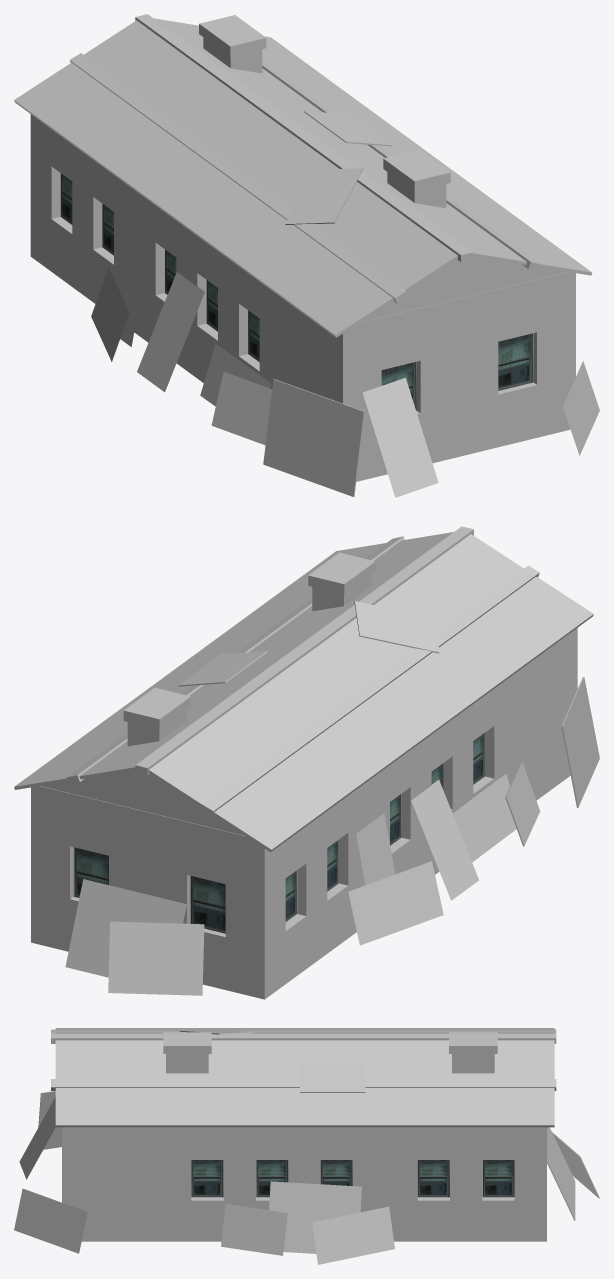
File: industrial_building_2.fbx
3 renders of one model, top to bottom at view 1: azimuth 30°, elevation 25°; view 2: azimuth 150°, elevation 25°; view 3: azimuth 270°, elevation 25°, orthographic. The views are drawn at different scales.
Parts seen in each view (by area): view 1: roof, building, white_planes, yellow_planes, green_planes, windows; view 2: roof, building, white_planes, yellow_planes, green_planes, windows; view 3: building, roof, white_planes, yellow_planes, windows, green_planes.
Part boxes in pixels (x1=…): roof: x1=14, y1=15, x2=592, y2=337; building: x1=30, y1=37, x2=575, y2=481; white_planes: x1=70, y1=14, x2=541, y2=496; yellow_planes: x1=91, y1=225, x2=599, y2=497; green_planes: x1=211, y1=111, x2=392, y2=445; windows: x1=60, y1=173, x2=533, y2=410; roof: x1=14, y1=532, x2=593, y2=852; building: x1=31, y1=575, x2=577, y2=999; white_planes: x1=65, y1=526, x2=599, y2=995; yellow_planes: x1=348, y1=774, x2=516, y2=945; green_planes: x1=178, y1=601, x2=540, y2=846; windows: x1=73, y1=733, x2=484, y2=933; building: x1=62, y1=1054, x2=546, y2=1241; roof: x1=55, y1=1028, x2=554, y2=1127; white_planes: x1=38, y1=1029, x2=599, y2=1253; yellow_planes: x1=14, y1=1097, x2=394, y2=1264; windows: x1=191, y1=1160, x2=514, y2=1197; green_planes: x1=179, y1=1029, x2=365, y2=1255.
Bounding box in the file's own units: 297 × 183 × 561.
